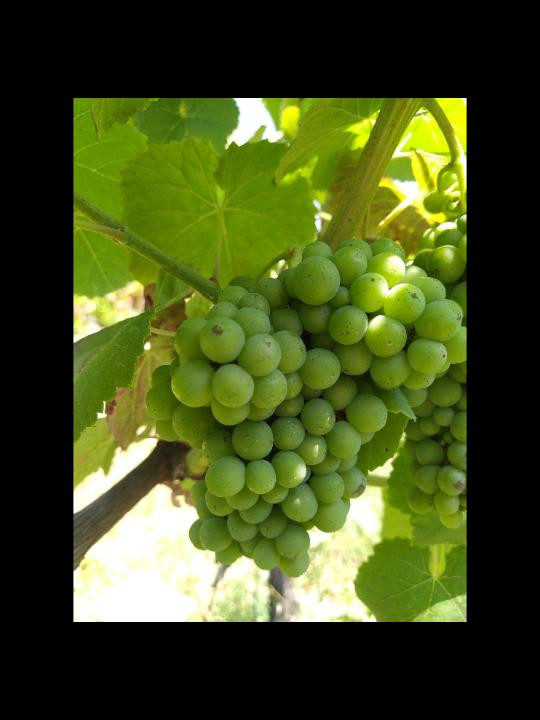grape: (144, 235, 462, 580)
